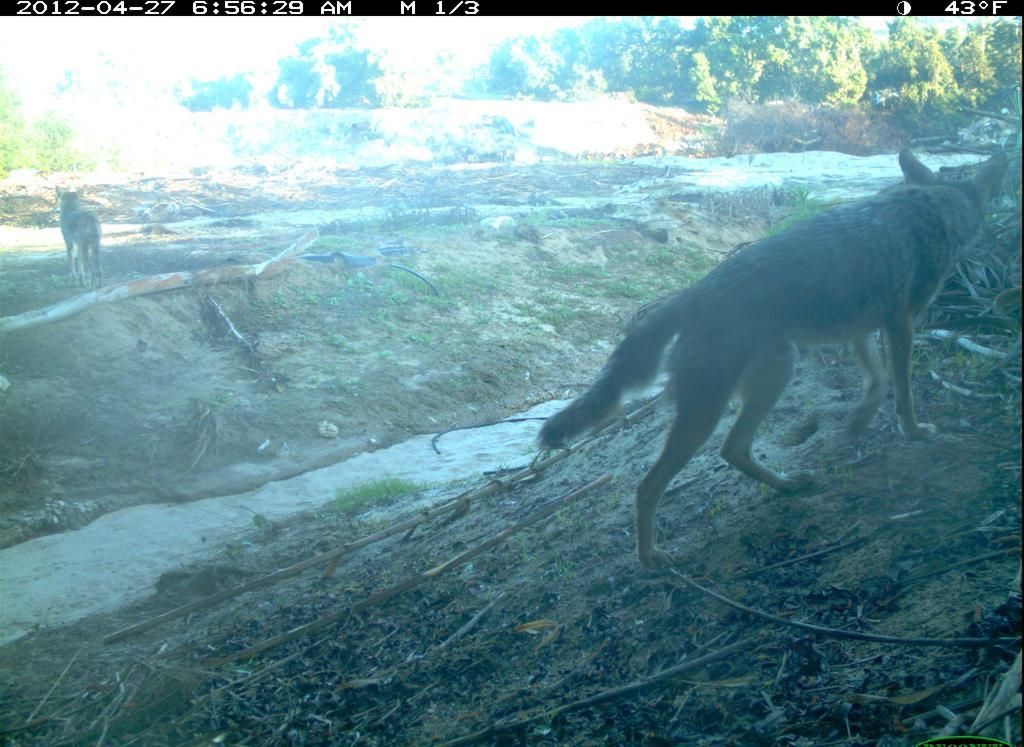coyote: (525, 140, 1016, 577), (53, 182, 108, 295)
